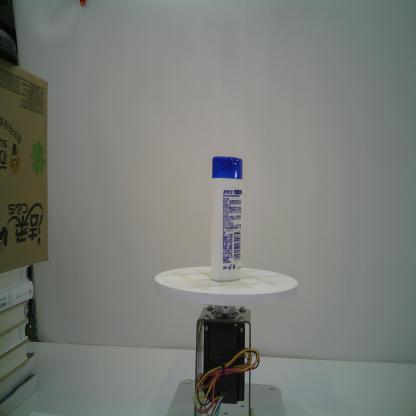Personal Hygiene: (210, 156, 243, 282)
